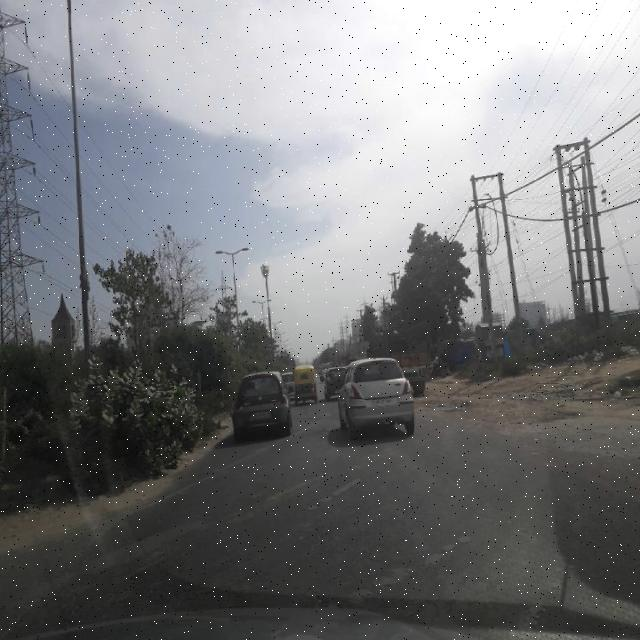D20: (55, 469, 625, 623)
